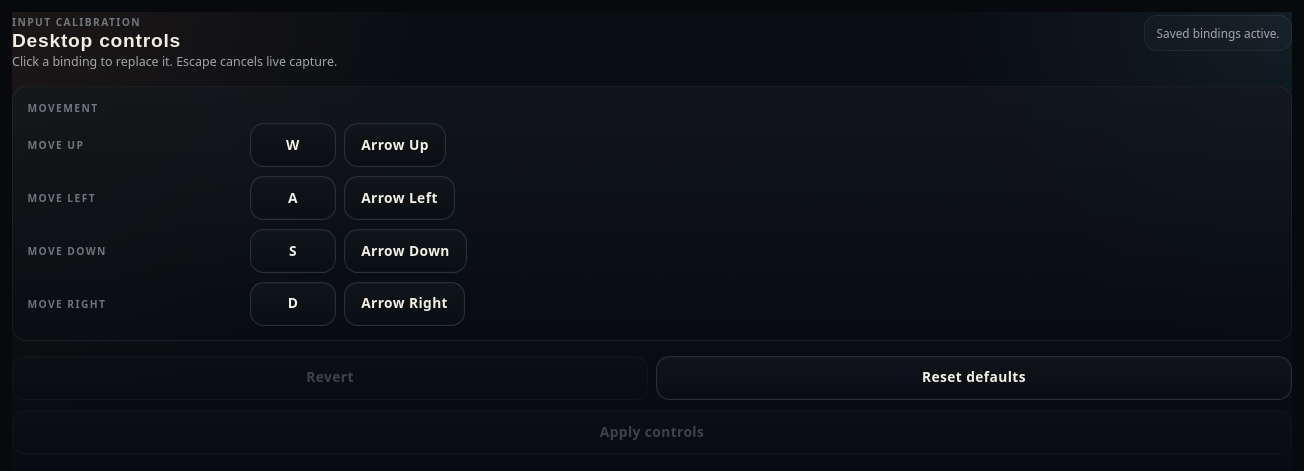
Test: DesktopControlSettingsSection › flags duplicate bindings and disables apply until conflicts are resolved
Click the button "W" at (293, 145), box [250, 123, 336, 167]
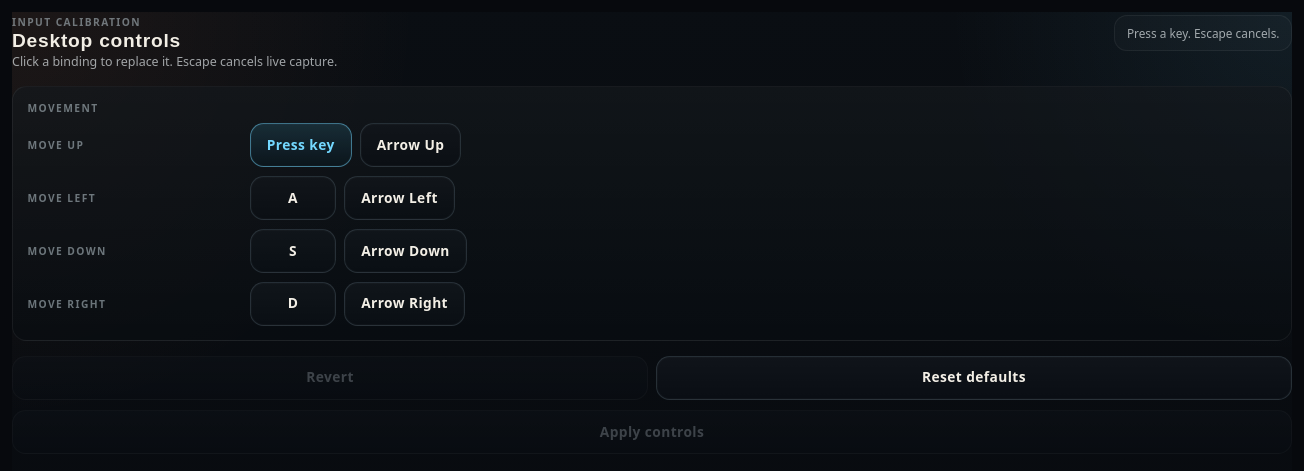
Press a
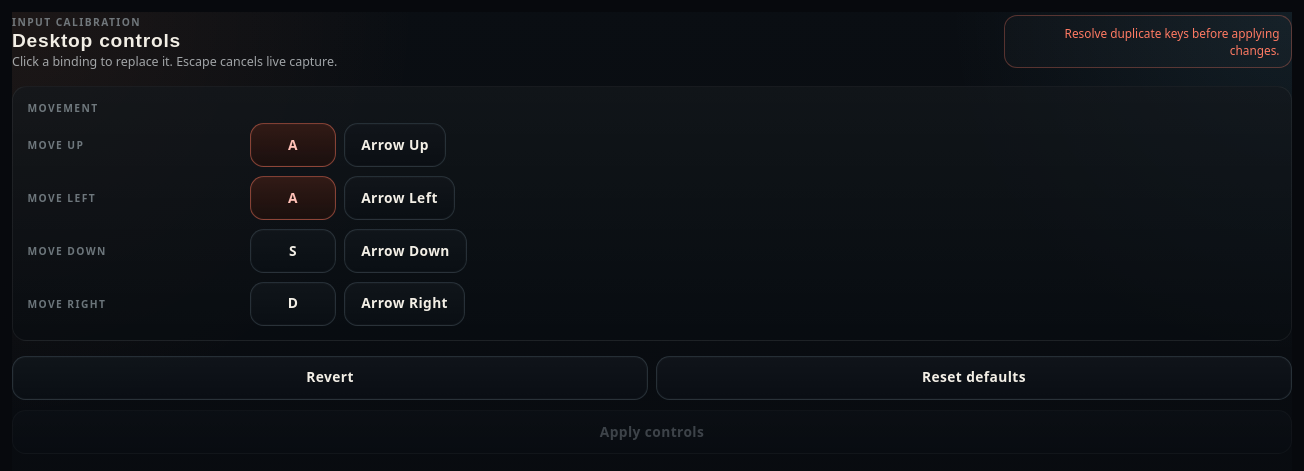
Expected: the button "Apply controls" is disabled, [12, 410, 1292, 454]
Expected: the text "Resolve duplicate keys before applying changes." is shown, [1004, 15, 1292, 68]
